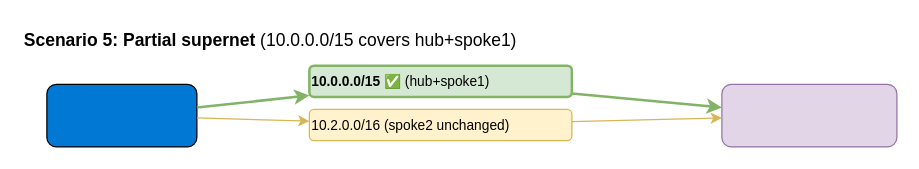
This 919x169 diagram has some shape labels left out. Here are the shapes that lost their labels. From the top down, the centre of each, then its label:
At [121,115]: "ER Gateway".
At [809,115]: "MSEE / On-Prem".
